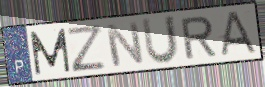A: (217, 10, 259, 58)
M: (28, 27, 73, 77)
N: (103, 21, 146, 69)
R: (179, 14, 218, 61)
U: (140, 14, 180, 66)
Z: (65, 23, 108, 74)
